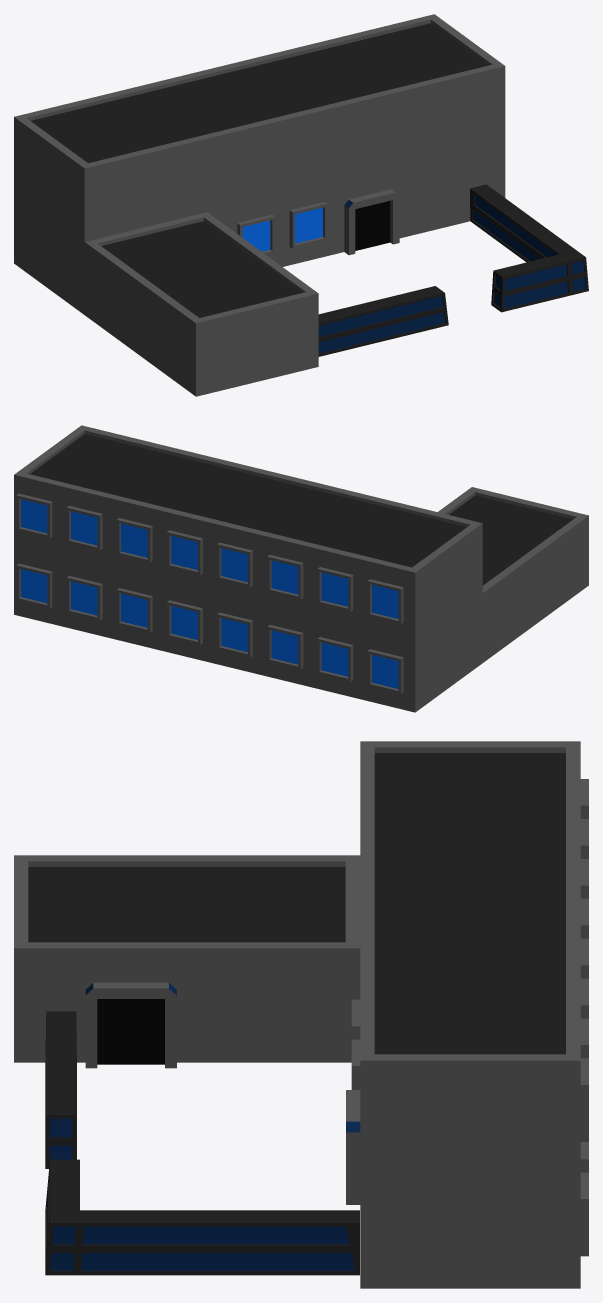
File: NATO Barracks.obj
The picture shows the model from 3 angles, top to bottom: view 1: azimuth 30°, elevation 25°; view 2: azimuth 150°, elevation 25°; view 3: azimuth 270°, elevation 25°; orthographic projection. The views are drawn at different scales.
Visible parts, largest first — view 1: NATO_Barracks_Cube; view 2: NATO_Barracks_Cube; view 3: NATO_Barracks_Cube.
Part boxes in pixels (<box>): NATO_Barracks_Cube: <box>14,14,588,396</box>; NATO_Barracks_Cube: <box>14,425,588,712</box>; NATO_Barracks_Cube: <box>14,741,588,1288</box>.
Bounding box in the file's own units: 24 × 8 × 18.27.
